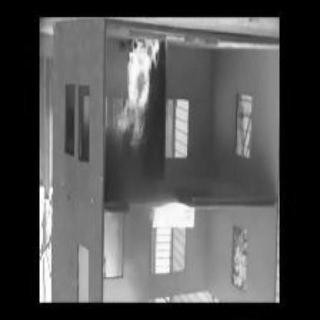Fire: (122, 37, 164, 147)
